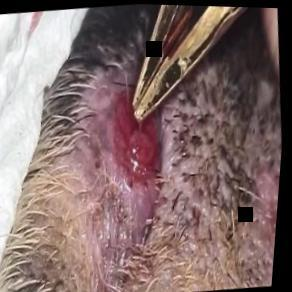skin_lesions: (105, 75, 179, 189)
